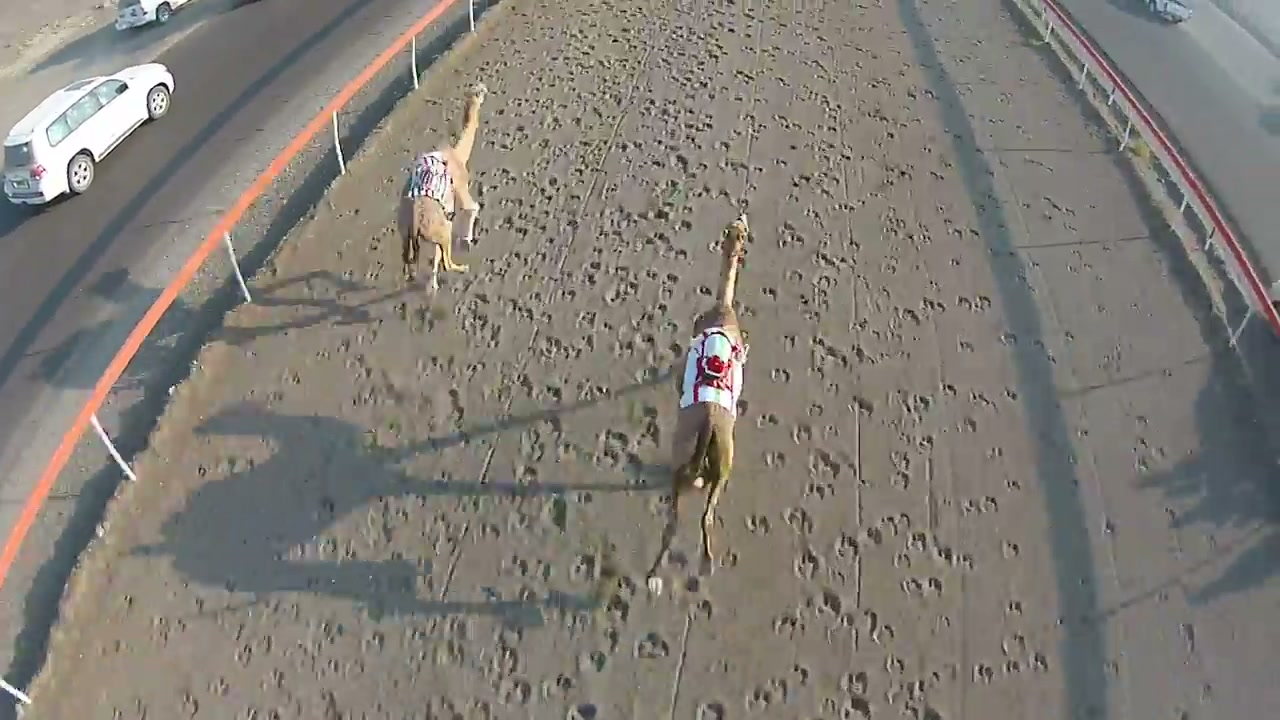animal_footprint: (728, 32, 1026, 702), (375, 22, 709, 531)
